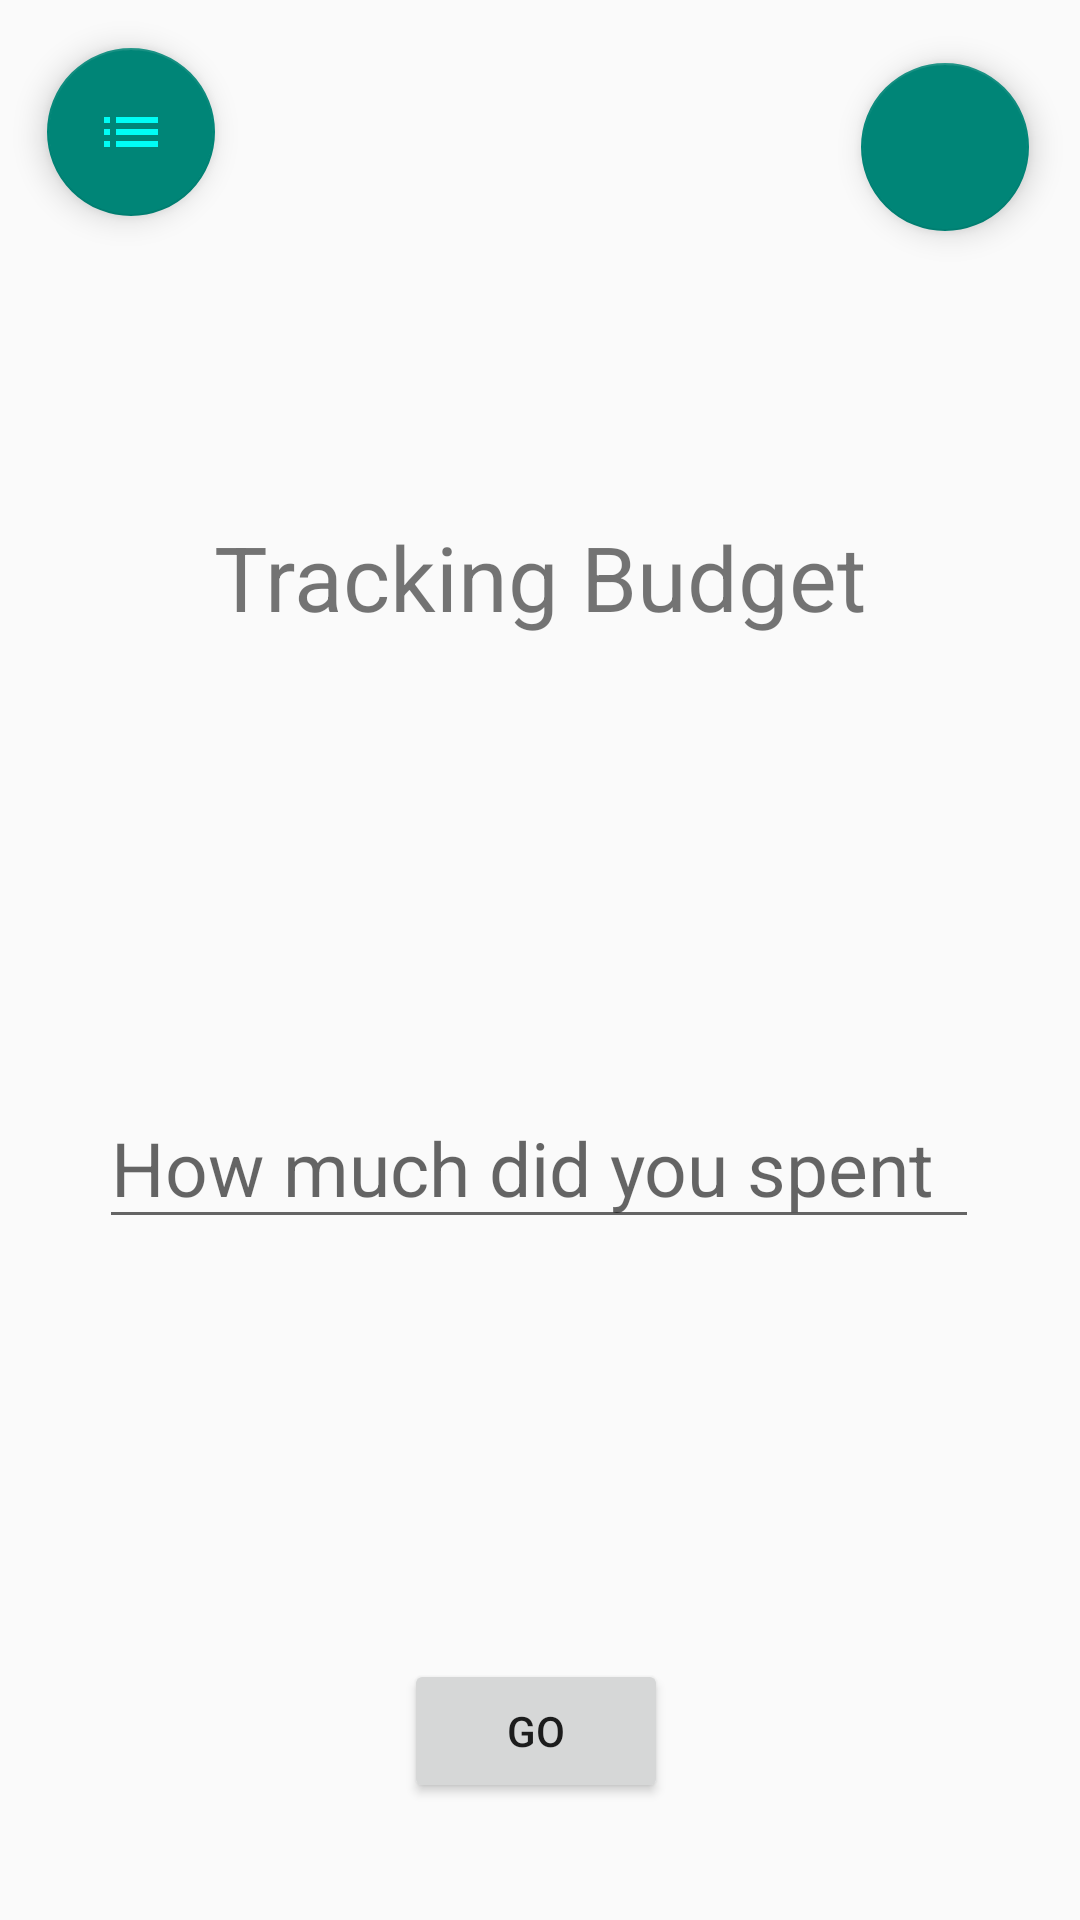

Icon click points for this 1080px x 1920px phone screenshot, format [x,y]:
list: [131,132]
